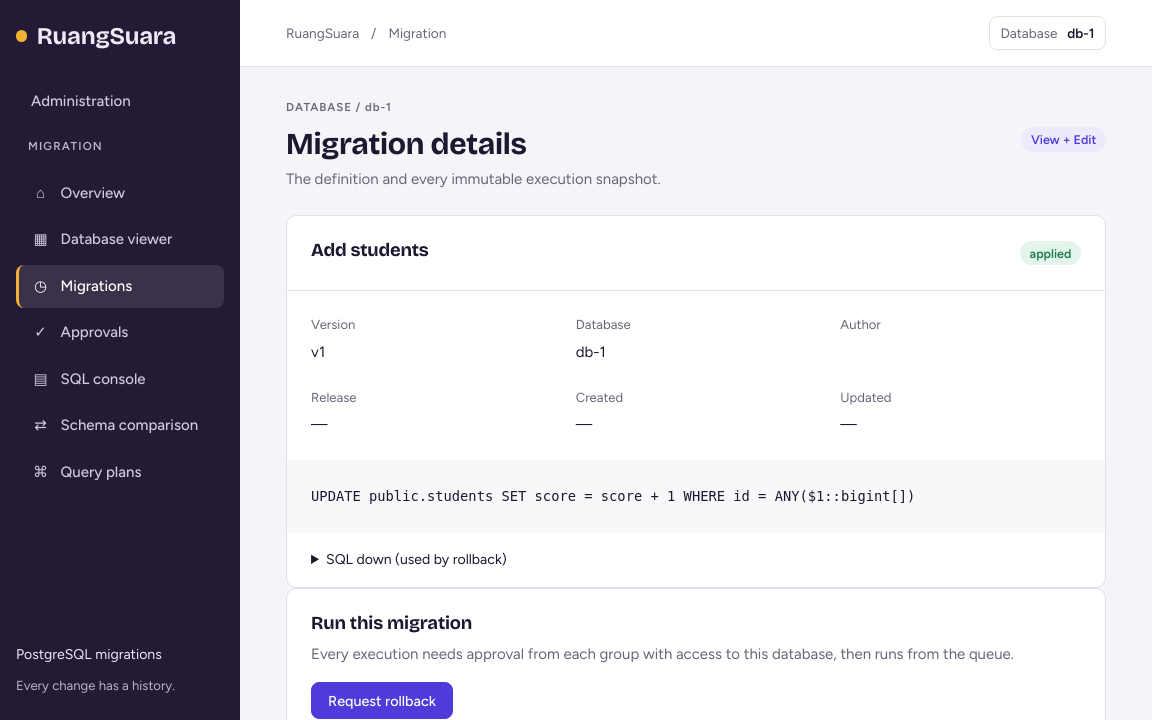
Test: Asynchronous migration submission › submits a applied migration using rollback and opens its job
Click the button "Request rollback". click: (382, 701)
box: [311, 682, 453, 719]
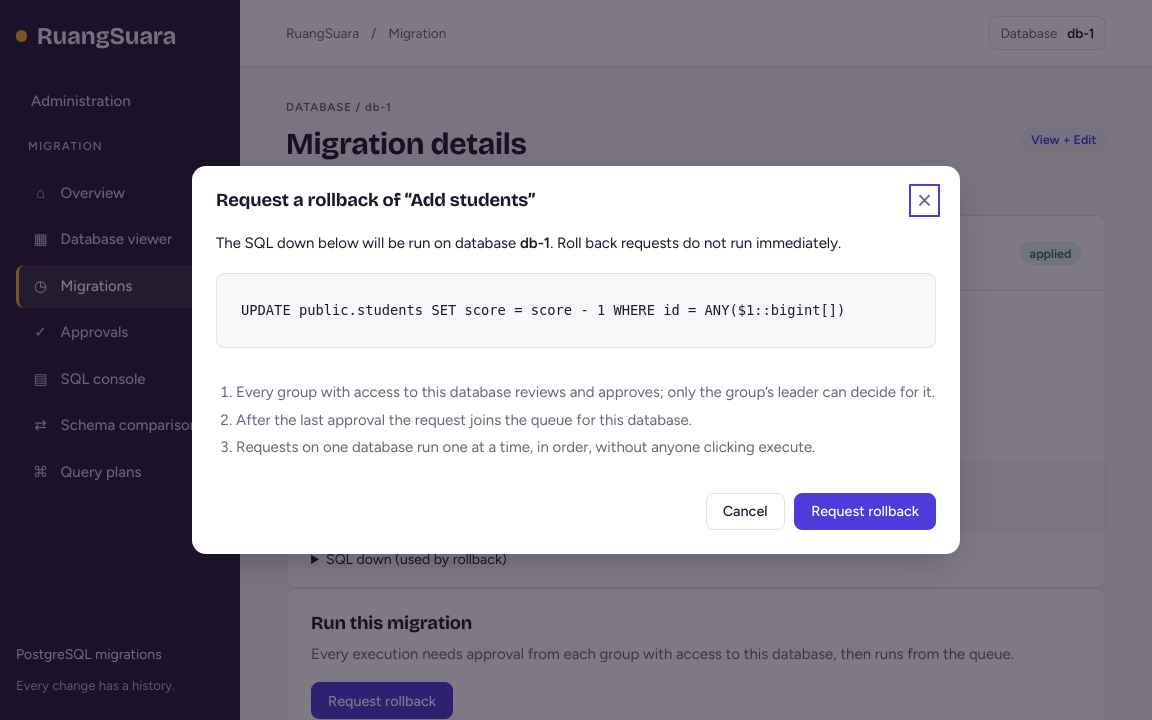
Click the button "Request rollback". click: (865, 511)
box: [794, 493, 936, 530]
(page scrolled)
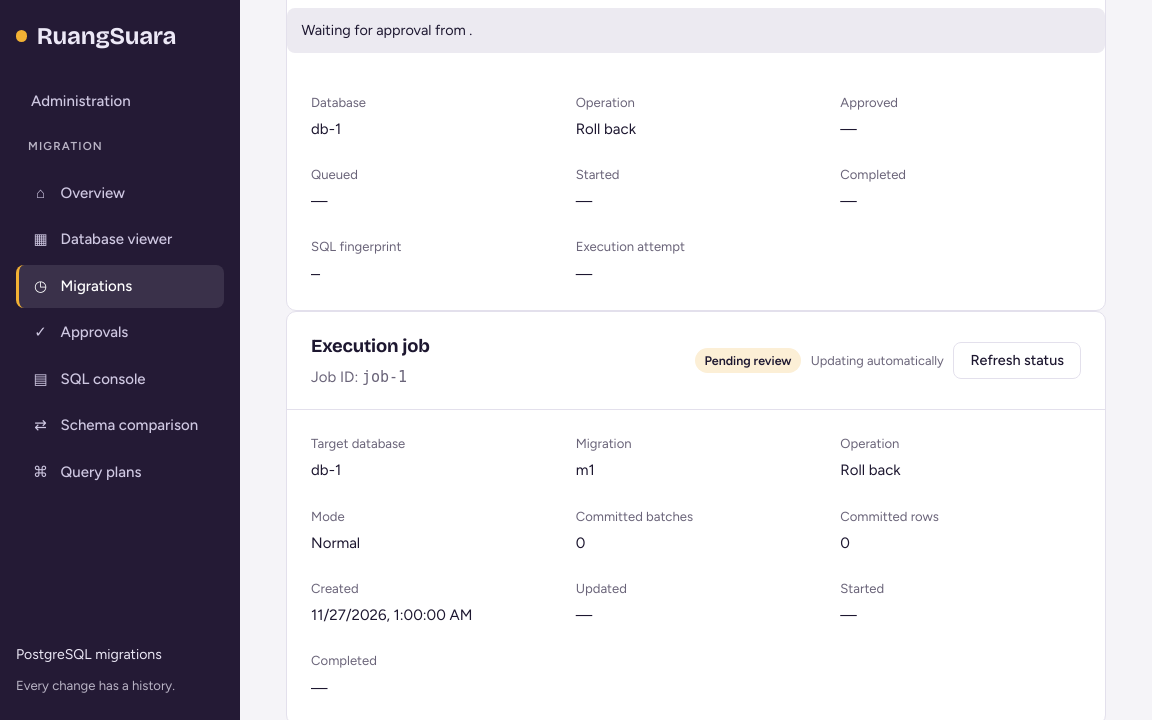
Check: the heading "Execution job" is shown, box [311, 332, 430, 360]
Check: the text "job-1" is shown, box [362, 368, 407, 386]
Check: the text "Pending review" is shown, box [695, 348, 801, 372]
